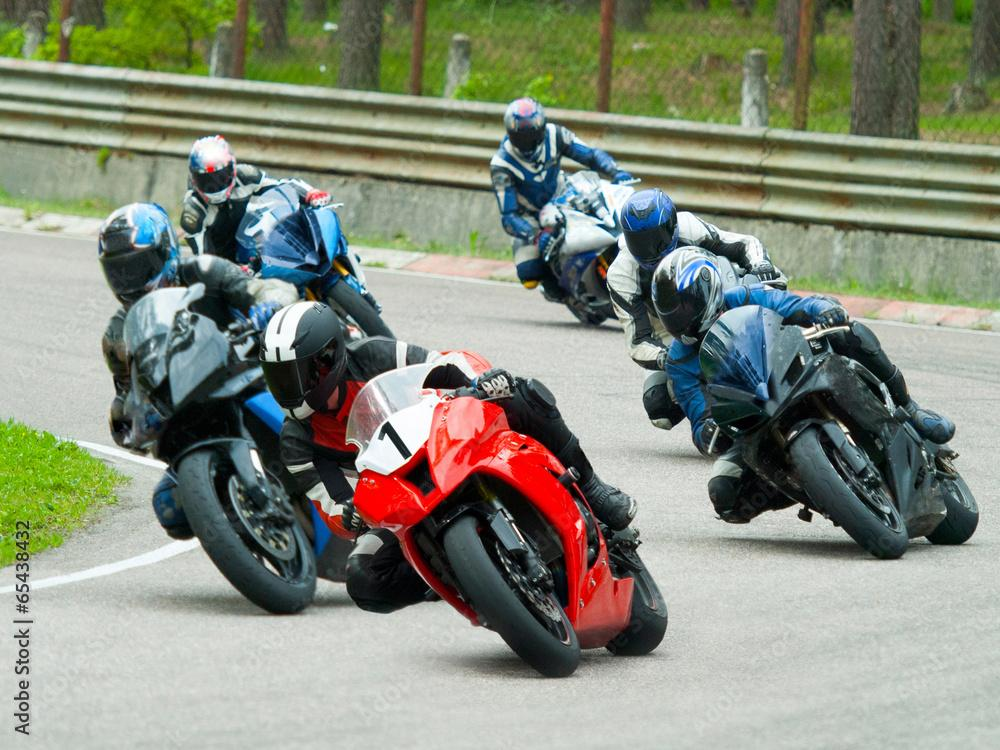helmet: (257, 300, 349, 422), (97, 201, 181, 316), (650, 245, 726, 347), (620, 187, 680, 274), (188, 134, 237, 205), (503, 96, 546, 160)
